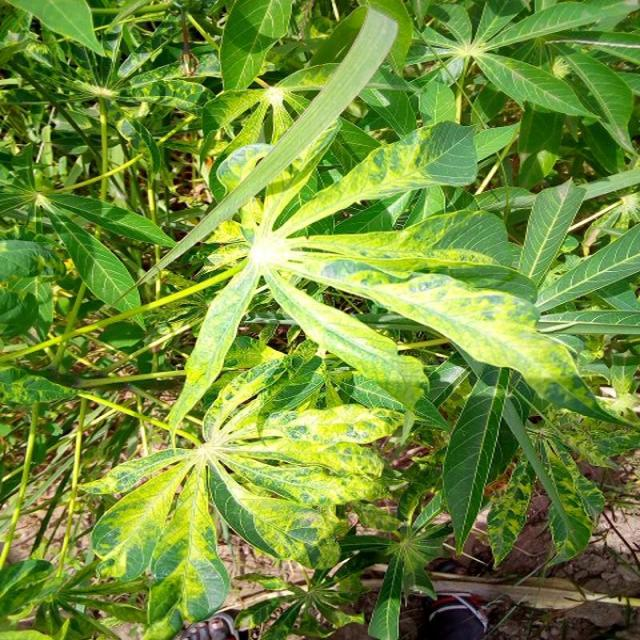cassava leaf: (64, 3, 634, 635)
